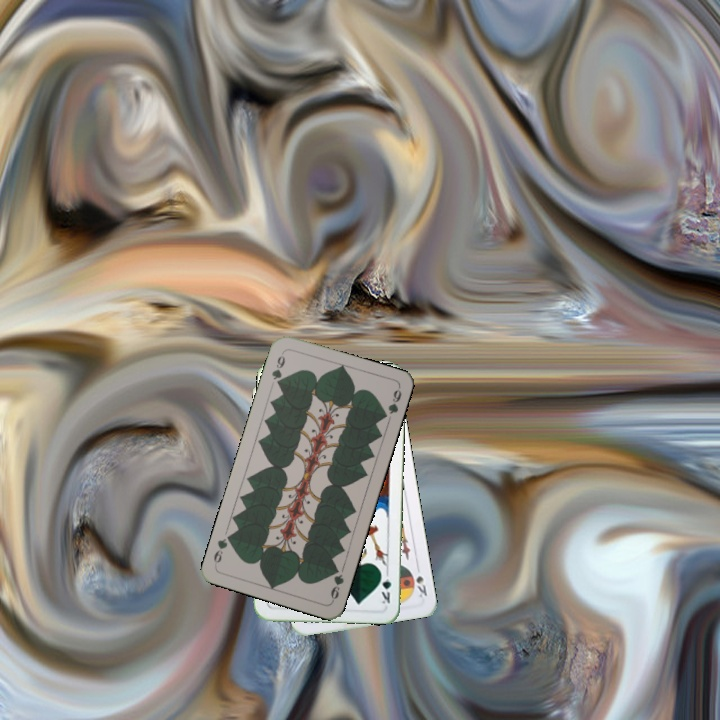G9: (326, 563, 346, 604), (268, 348, 288, 389)
GK: (377, 567, 394, 606)
SK: (408, 568, 430, 601)
